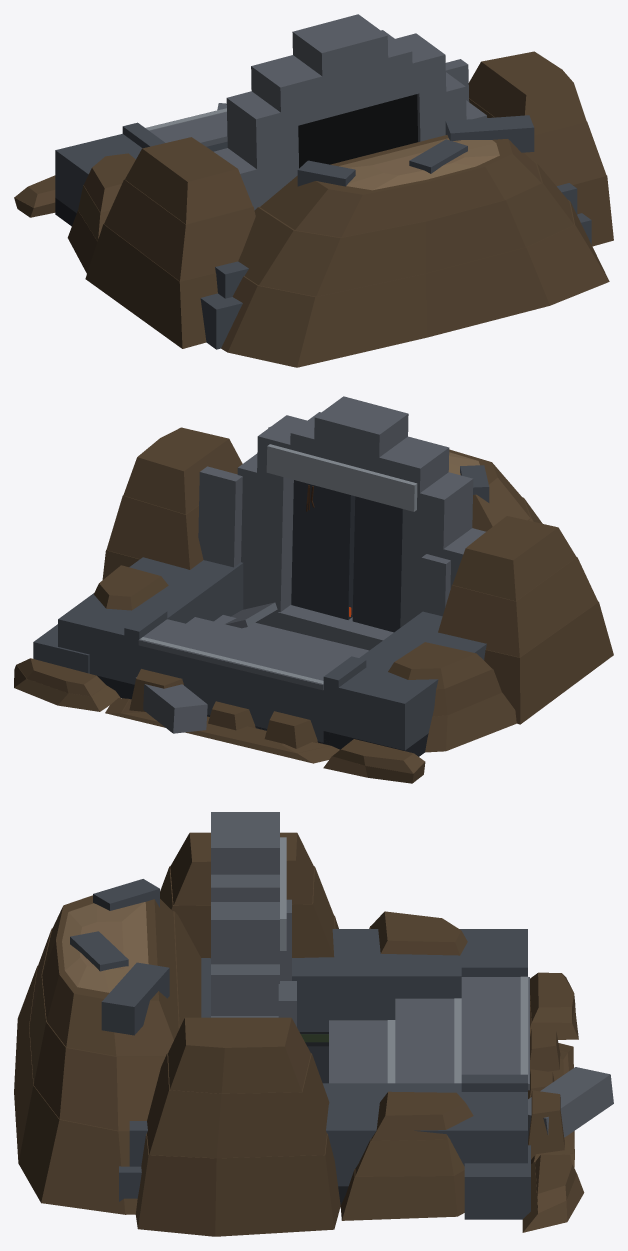
3 views of the same model, one above another, from view 1: azimuth 30°, elevation 25°; view 2: azimuth 150°, elevation 25°; view 3: azimuth 270°, elevation 25° (orthographic). The views are drawn at different scales.
Parts seen in each view (by area): view 1: DG-主体; view 2: DG-主体; view 3: DG-主体.
Boxes of the visible parts, x1,y1,x2,y2 form: DG-主体: (14, 14, 613, 367); DG-主体: (14, 396, 613, 783); DG-主体: (14, 812, 613, 1236).
Size of the model in its own units: 10.08 by 4.92 by 9.94.
2 materials, 2 textured.
